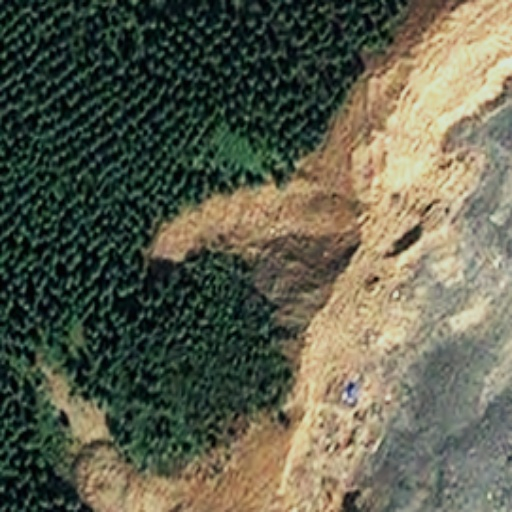landslide: (50, 3, 509, 488)
